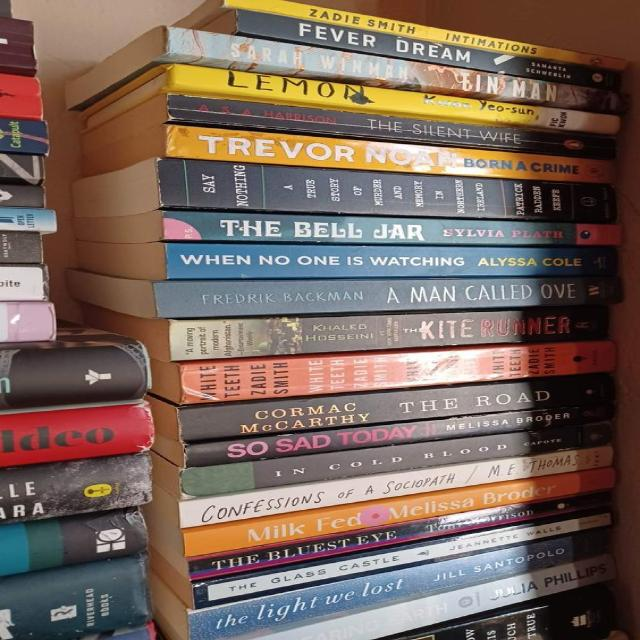book: (186, 527, 609, 640), (191, 508, 618, 610), (188, 489, 614, 581), (171, 28, 629, 113), (184, 466, 614, 556), (180, 447, 611, 526), (180, 423, 614, 499), (237, 10, 620, 92), (256, 554, 617, 639), (171, 66, 618, 133), (154, 158, 614, 223), (169, 94, 616, 160), (181, 374, 615, 441), (220, 1, 627, 71), (182, 340, 613, 404), (150, 125, 610, 182), (183, 407, 615, 463), (172, 309, 610, 360), (154, 277, 622, 316), (163, 212, 622, 247), (166, 245, 617, 279), (397, 594, 607, 639)
